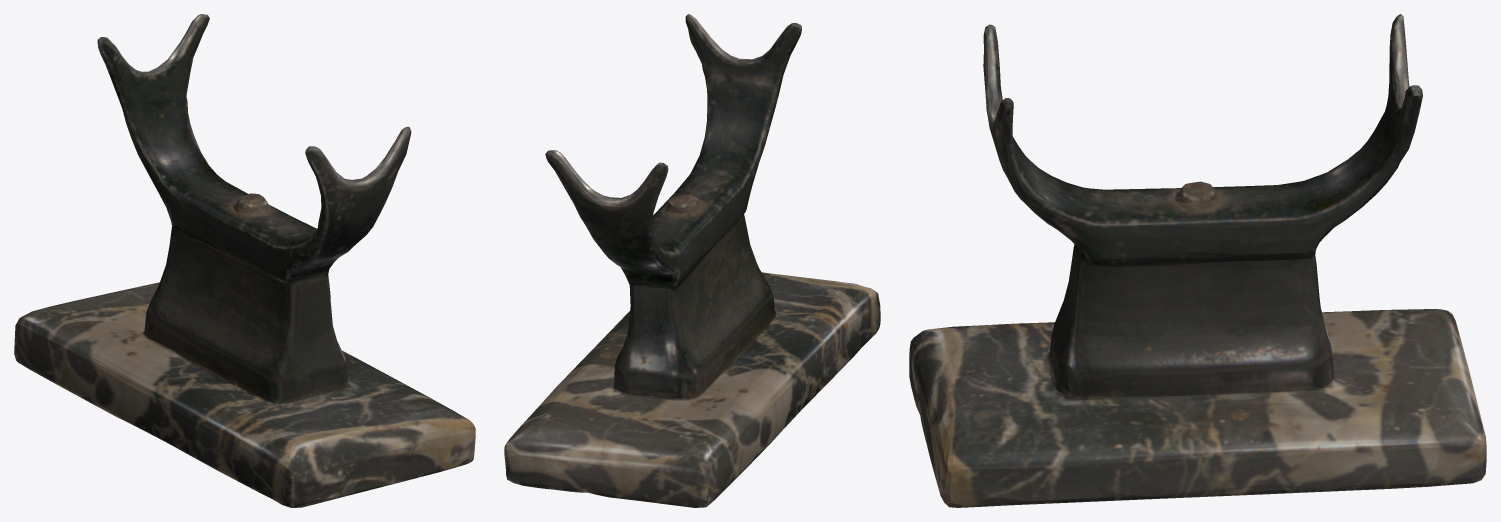
Rendered from 22AFA8BD-2F82-4B40-9D7F-15DBDE55BE38_2k.glb.
The picture shows the model from 3 angles, left to right: view 1: azimuth 30°, elevation 25°; view 2: azimuth 150°, elevation 25°; view 3: azimuth 270°, elevation 25°; orthographic projection. The views are drawn at different scales.
Visible parts, largest first — view 1: Loetkolben_3k_2k; view 2: Loetkolben_3k_2k; view 3: Loetkolben_3k_2k.
Boxes of the visible parts, x1,y1,x2,y2 form: Loetkolben_3k_2k: (14,14,475,507); Loetkolben_3k_2k: (504,14,880,507); Loetkolben_3k_2k: (909,14,1486,507).
Bounding box in the file's own units: 0.0863 × 0.1132 × 0.146.
1 material, 1 textured.
